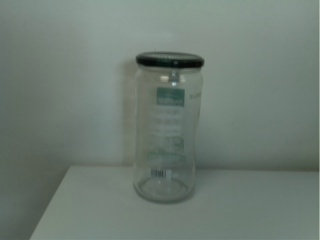pote cristal: (131, 48, 206, 206)
